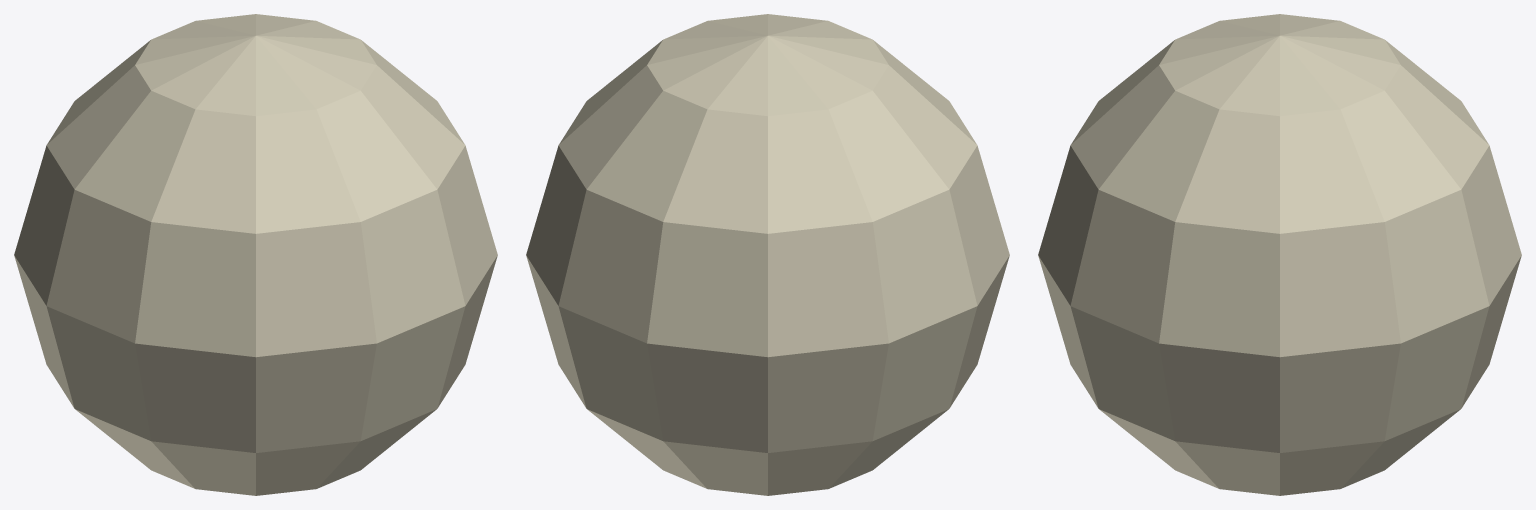
3 renders of one model, left to right at view 1: azimuth 30°, elevation 25°; view 2: azimuth 150°, elevation 25°; view 3: azimuth 270°, elevation 25°, orthographic.
Parts seen in each view (by area): view 1: topic; view 2: topic; view 3: topic.
Boxes of the visible parts, x1=… form: topic: x1=14, y1=14, x2=497, y2=495; topic: x1=526, y1=14, x2=1009, y2=495; topic: x1=1038, y1=14, x2=1521, y2=495.
Size of the model in its own units: 2 by 2 by 2.
